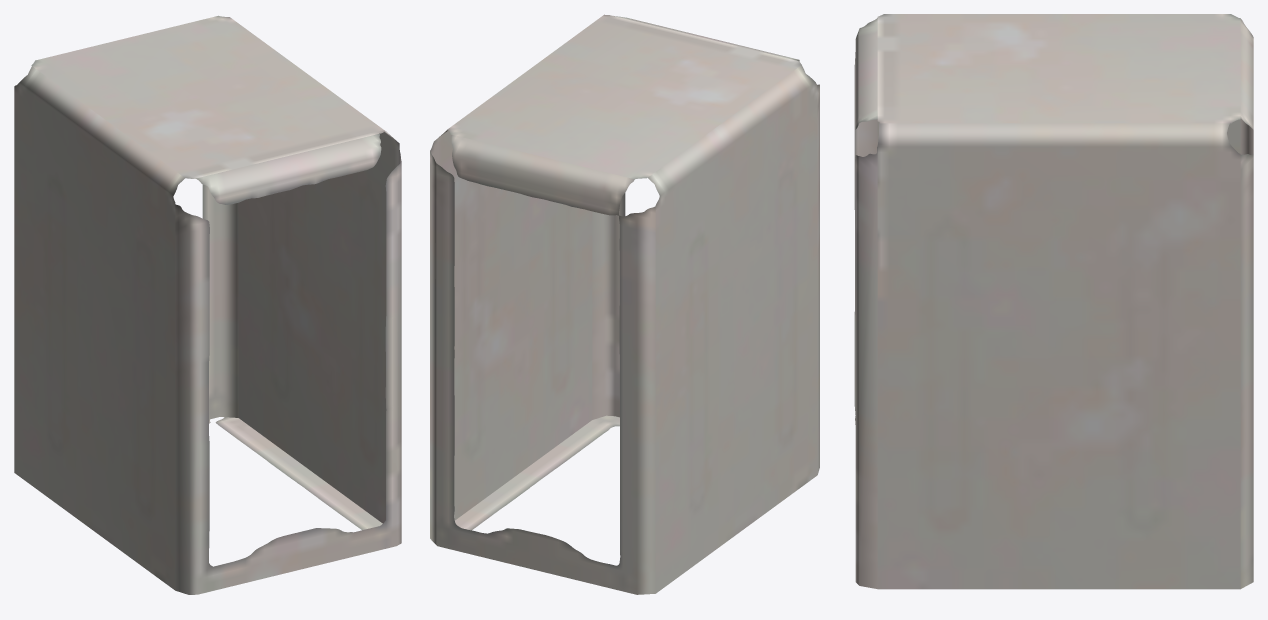
The model's file is sm24_013_napkinholder01a.fbx.
3 views of the same model, side by side, from view 1: azimuth 30°, elevation 25°; view 2: azimuth 150°, elevation 25°; view 3: azimuth 270°, elevation 25° (orthographic). The views are drawn at different scales.
Visible parts, largest first — view 1: LOD_1_Group_0_Sub_1__sm24_013_napkinHolder01A_A_Mat; view 2: LOD_1_Group_0_Sub_1__sm24_013_napkinHolder01A_A_Mat; view 3: LOD_1_Group_0_Sub_1__sm24_013_napkinHolder01A_A_Mat.
Part boxes in pixels (x1,y1,x2,y2): LOD_1_Group_0_Sub_1__sm24_013_napkinHolder01A_A_Mat: [14, 15, 401, 594]; LOD_1_Group_0_Sub_1__sm24_013_napkinHolder01A_A_Mat: [430, 14, 819, 594]; LOD_1_Group_0_Sub_1__sm24_013_napkinHolder01A_A_Mat: [854, 14, 1253, 589].
Bounding box in the file's own units: 0.163 × 0.298 × 0.2264.
